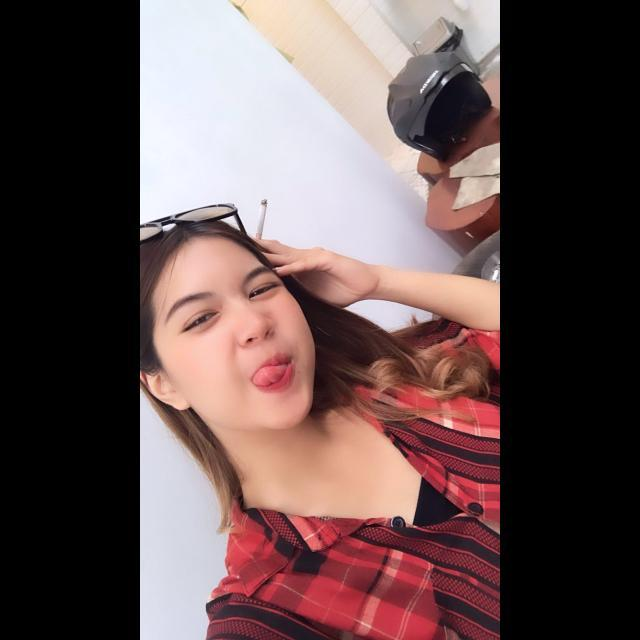rokok: (250, 195, 272, 238)
